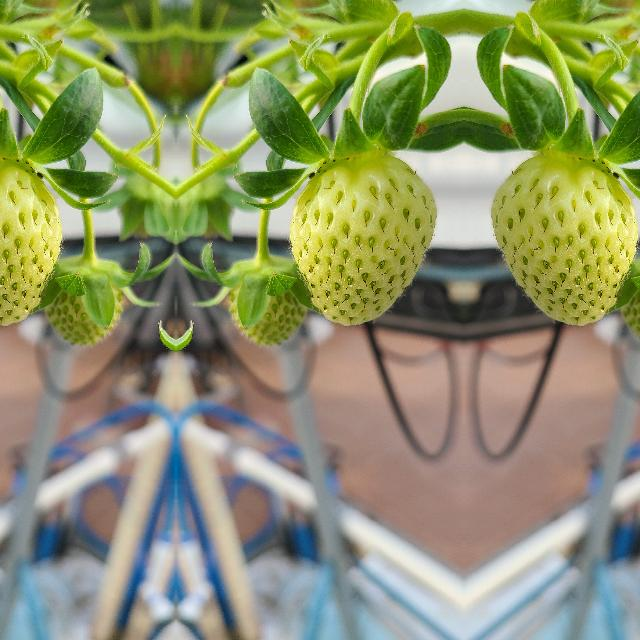Health_25: (284, 154, 438, 328), (488, 154, 640, 327), (0, 154, 65, 327)
